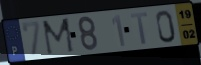0: (154, 8, 178, 44)
1: (111, 14, 126, 48)
7: (20, 19, 44, 58)
8: (77, 15, 99, 53)
M: (41, 16, 77, 57)
T: (129, 11, 149, 47)
